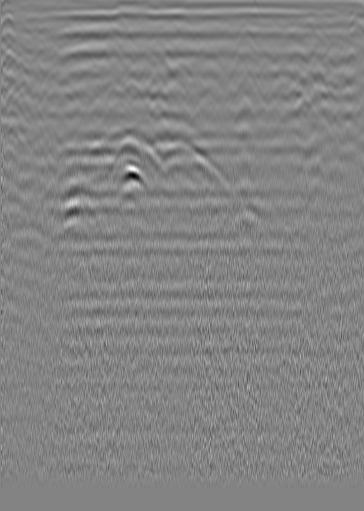가스: (113, 164, 149, 194)
상수: (14, 20, 34, 40)
오수: (298, 7, 318, 27)
우수: (160, 21, 180, 41)
